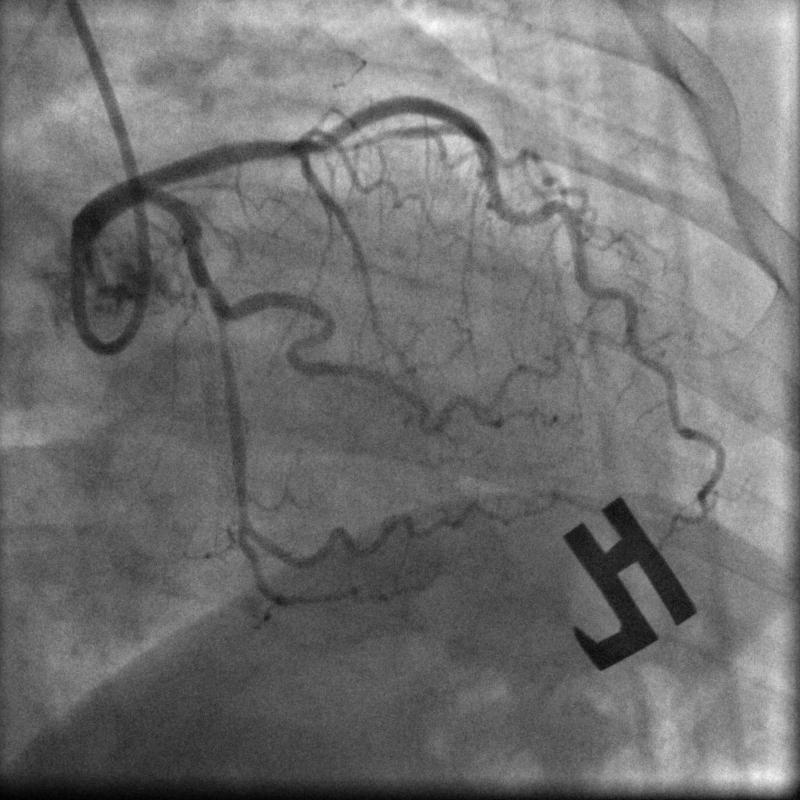Stenosis: (177, 224, 222, 303)
